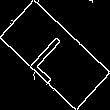L_NE: (27, 26, 83, 84)
